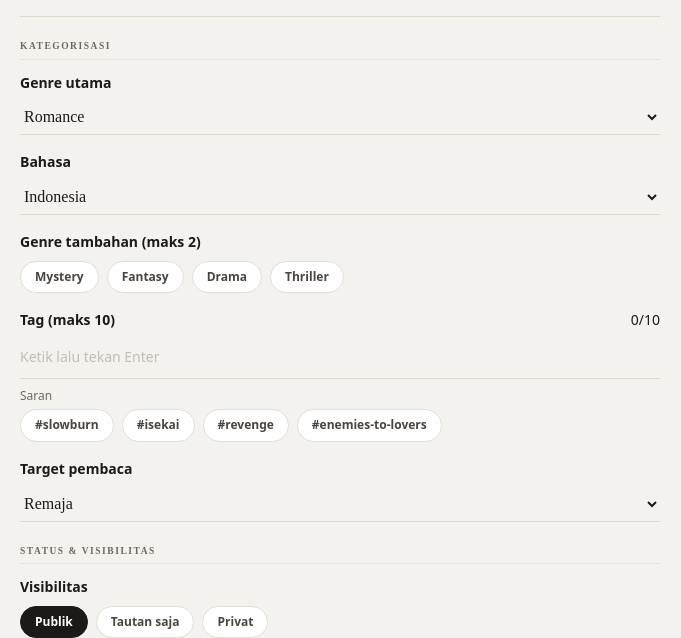
Scenario: kategorisasi · FR-STUDIO-14 › tag membuang tanda pagar, dan penolakan menyebut tag mana yang bentrok
(page scrolled)
Type "#slowburn" into the field labelled "Tag (maks 10)". click: (340, 358)
box: [20,337,660,379]
Then press Enter
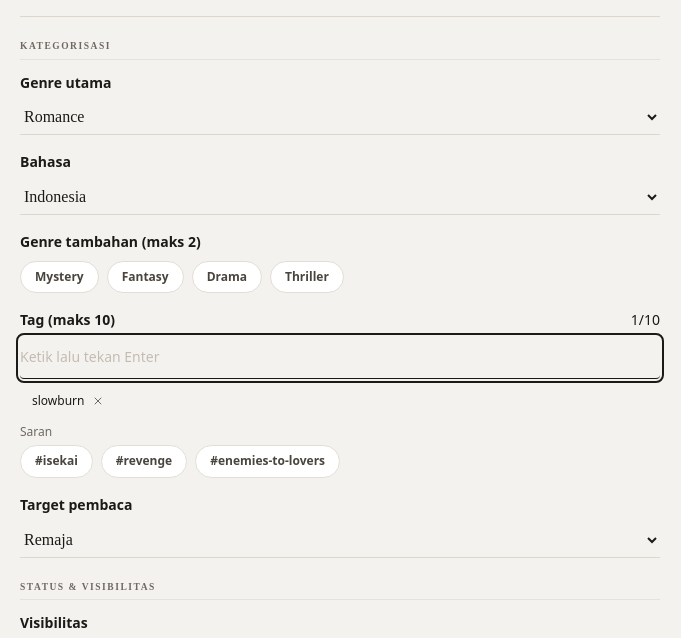
Expected: the text "slowburn" is shown, [20,387,112,415]
Type "slowburn" into the field labelled "Tag (maks 10)". click: (340, 358)
box: [20,337,660,379]
Then press Enter
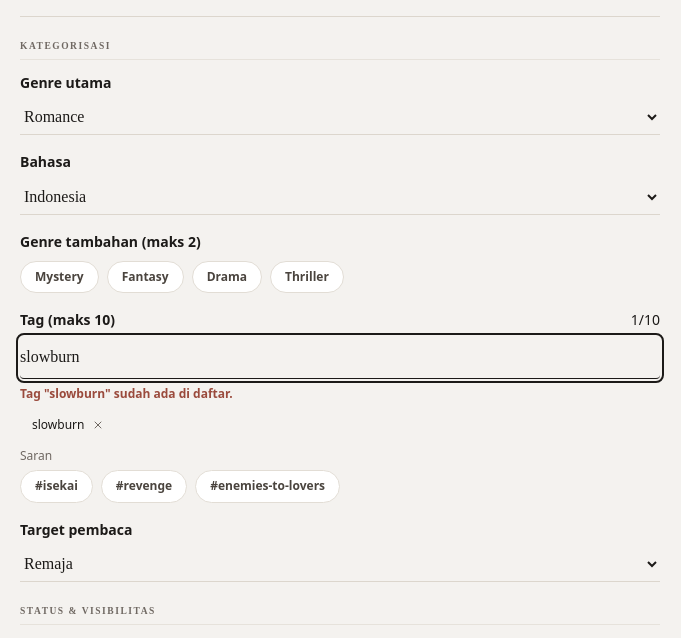
Expected: the text "Tag \"slowburn\" sudah ada di daftar." is shown, [20,385,233,402]
